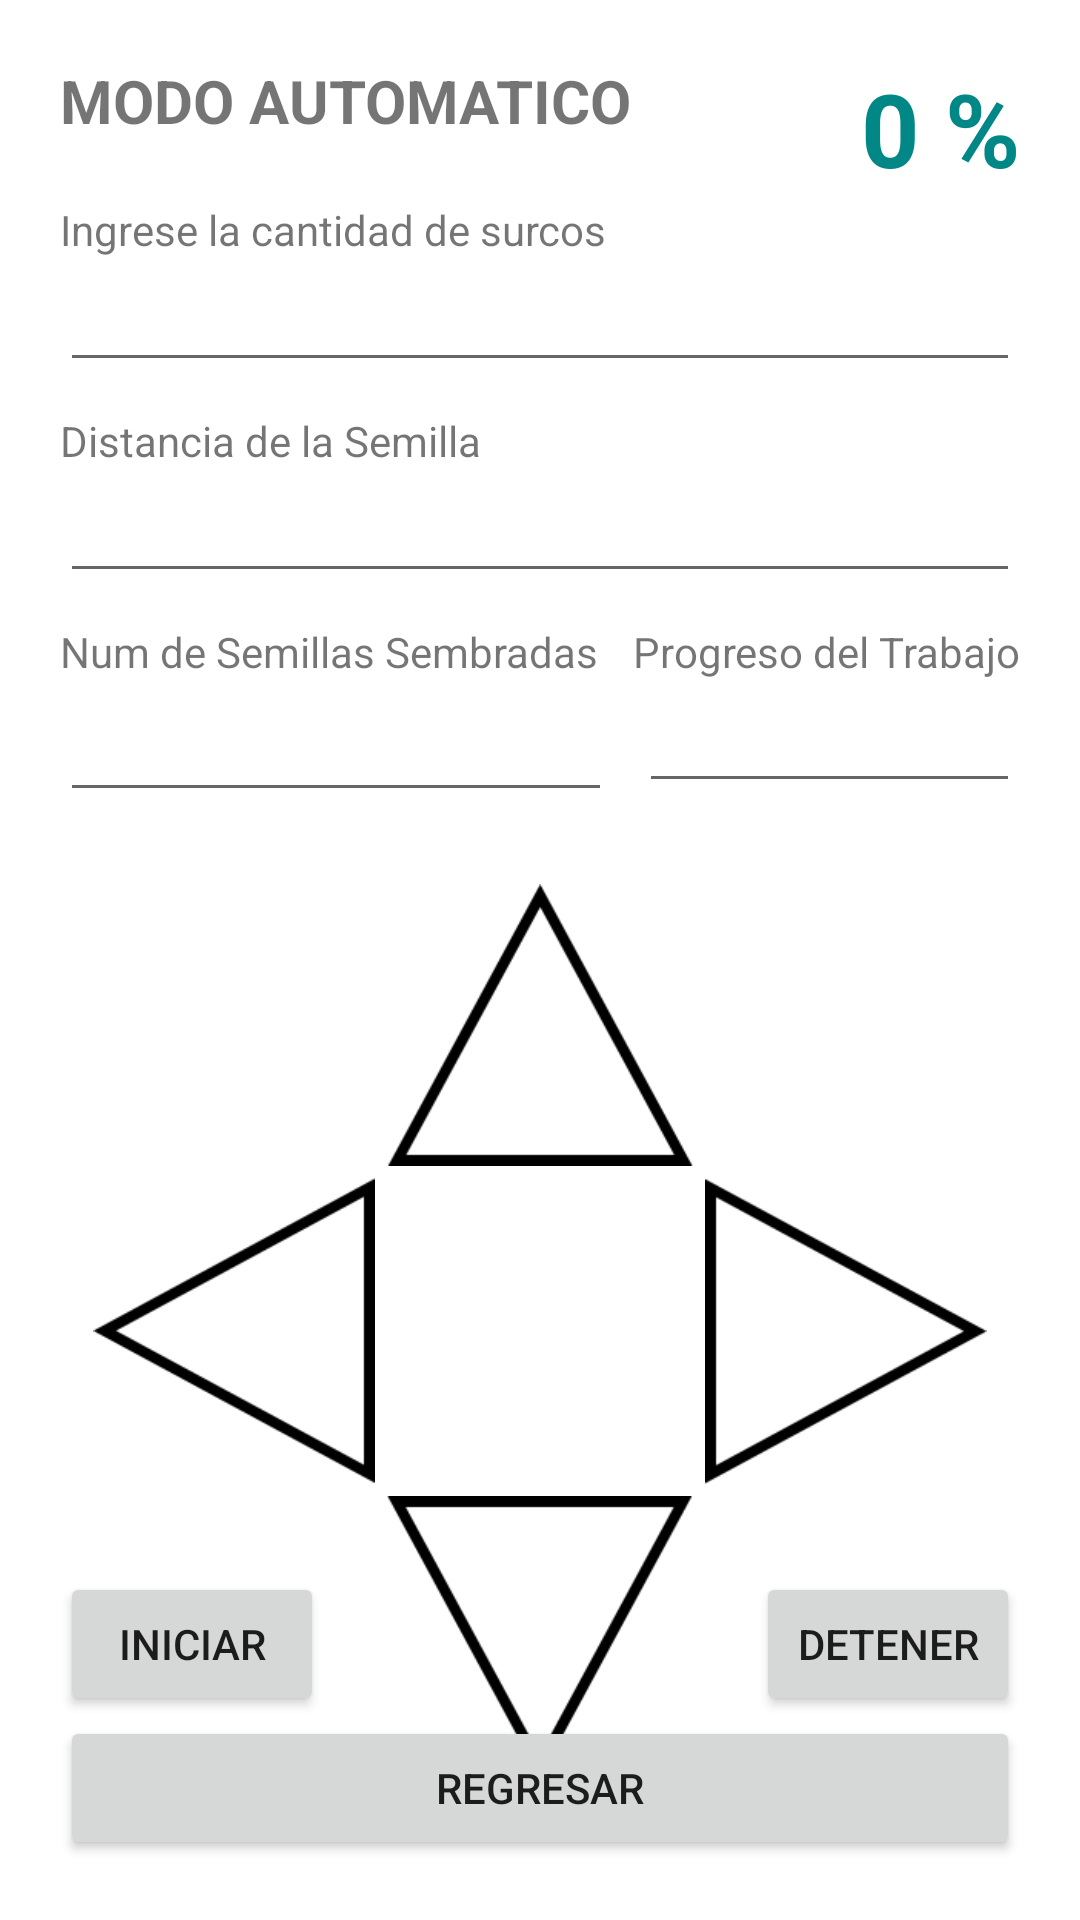

Point at icon controls on the screen. Image size 1080w x 1920h, points as (x,y).
triangulo left: (234,1330)
triangulo right: (846,1331)
triangulo up: (540,1025)
